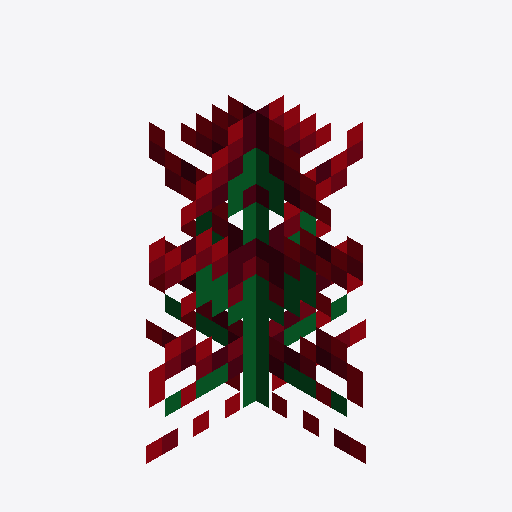
Isometric view (azimuth 45°, elevation 35.3°) of a Minecraft model made of 86 cuboids, textured from the same repository.
Visible parts, largest first — TopStalk (×2), element 4, element 47, element 18, element 65, element 19, element 66, element 38, element 79, element 40, element 75, element 17 (+27 smaller).
Boxes of the visible parts, x1=… form: TopStalk (×2): x1=243, y1=104, x2=268, y2=407; element 4: x1=269, y1=119, x2=283, y2=217; element 47: x1=228, y1=119, x2=242, y2=217; element 18: x1=284, y1=236, x2=299, y2=316; element 65: x1=212, y1=236, x2=227, y2=316; element 19: x1=300, y1=227, x2=315, y2=307; element 66: x1=196, y1=227, x2=211, y2=307; element 38: x1=269, y1=336, x2=299, y2=389; element 79: x1=212, y1=336, x2=242, y2=389; element 40: x1=316, y1=327, x2=346, y2=380; element 75: x1=165, y1=327, x2=195, y2=380; element 17: x1=269, y1=246, x2=283, y2=325.
Bounding box in the file's own units: 14 × 16 × 14.